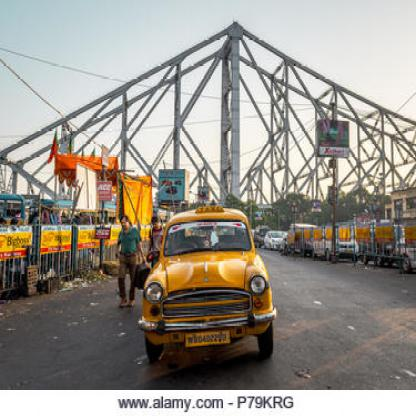car: (142, 206, 274, 362)
